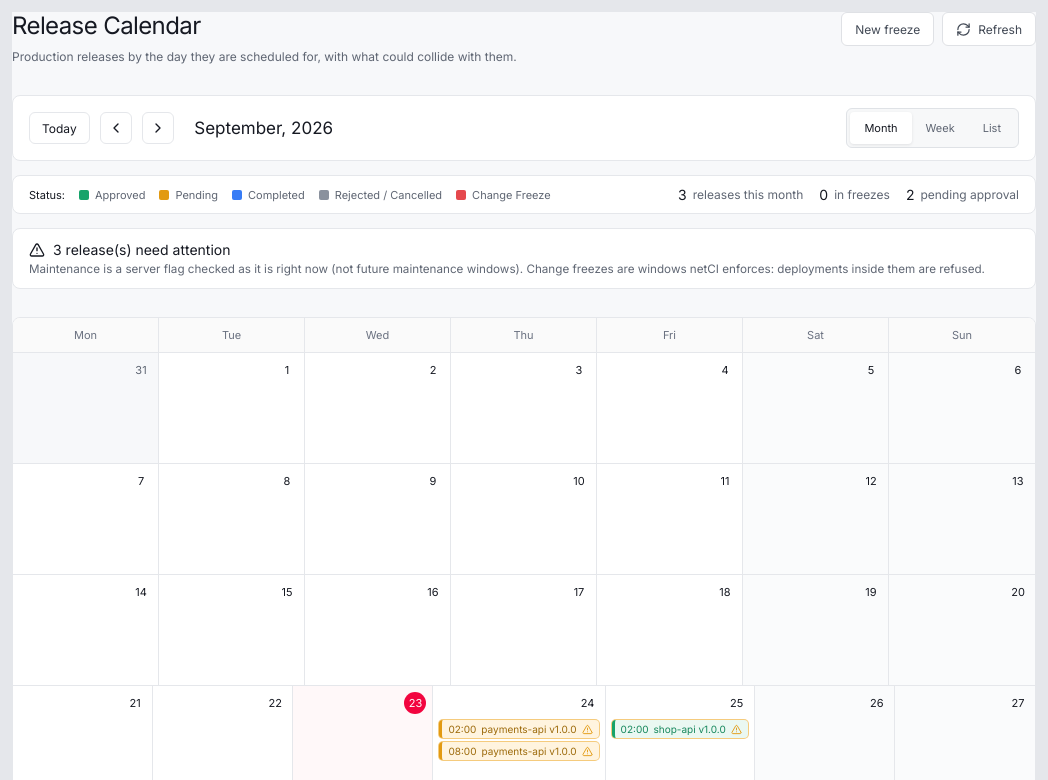
Test: ReleaseCalendarPage › next and prev month buttons change the title and reset with Today
expect the element with test id "calendar-summary" is shown: met, box [12,228,1036,289]
expect the text "September, 2026" is shown: met, box [184,118,344,138]
Click the button named "Next month": click(158, 128) [142,112,174,144]
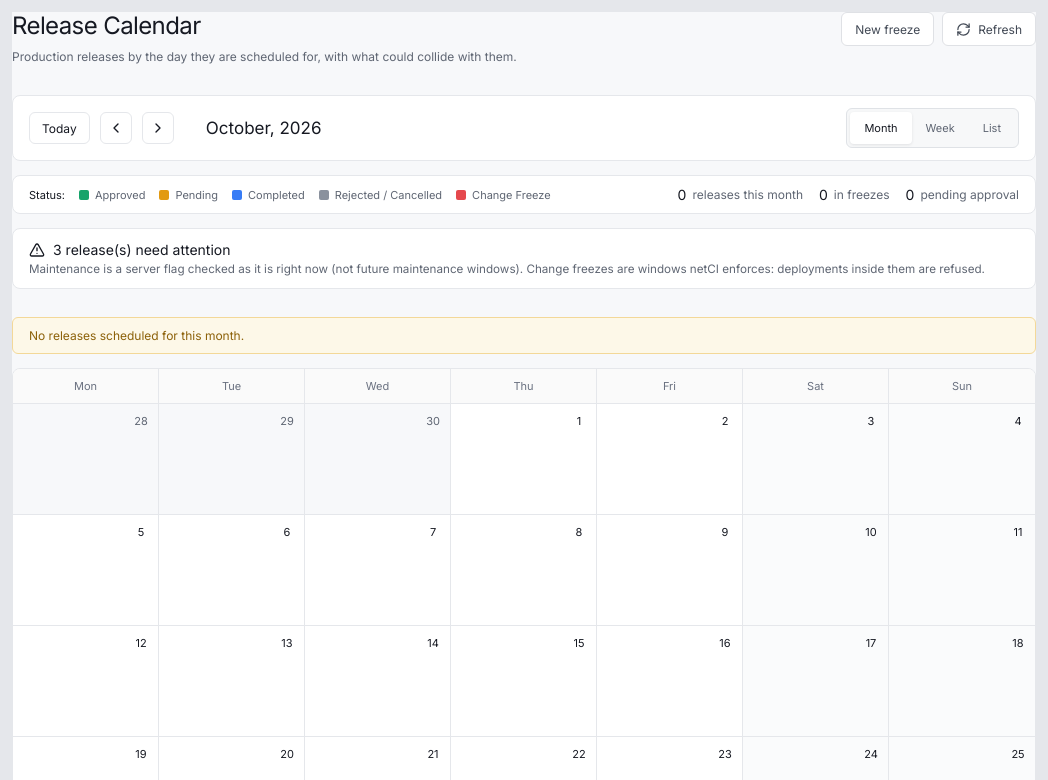
expect the text "October, 2026" is shown: met, box [206,118,321,138]
Click the button named "Previous month": click(116, 128) [100,112,132,144]
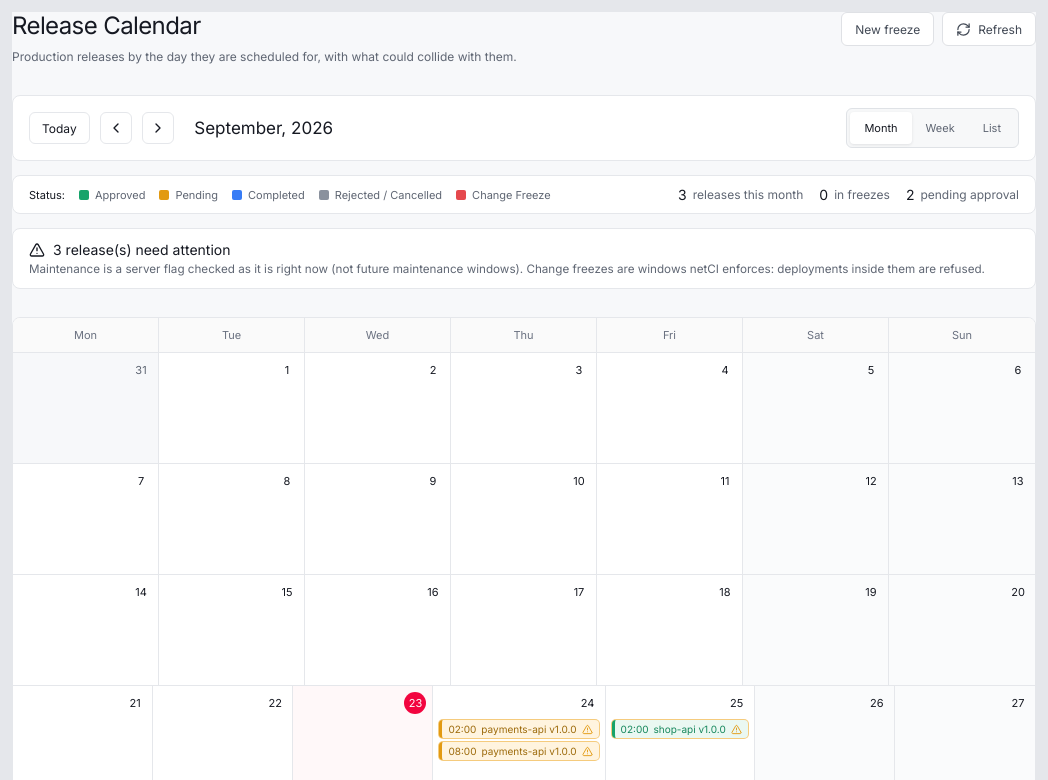
expect the text "September, 2026" is shown: met, box [184,118,344,138]
Click the button named "Previous month": click(116, 128) [100,112,132,144]
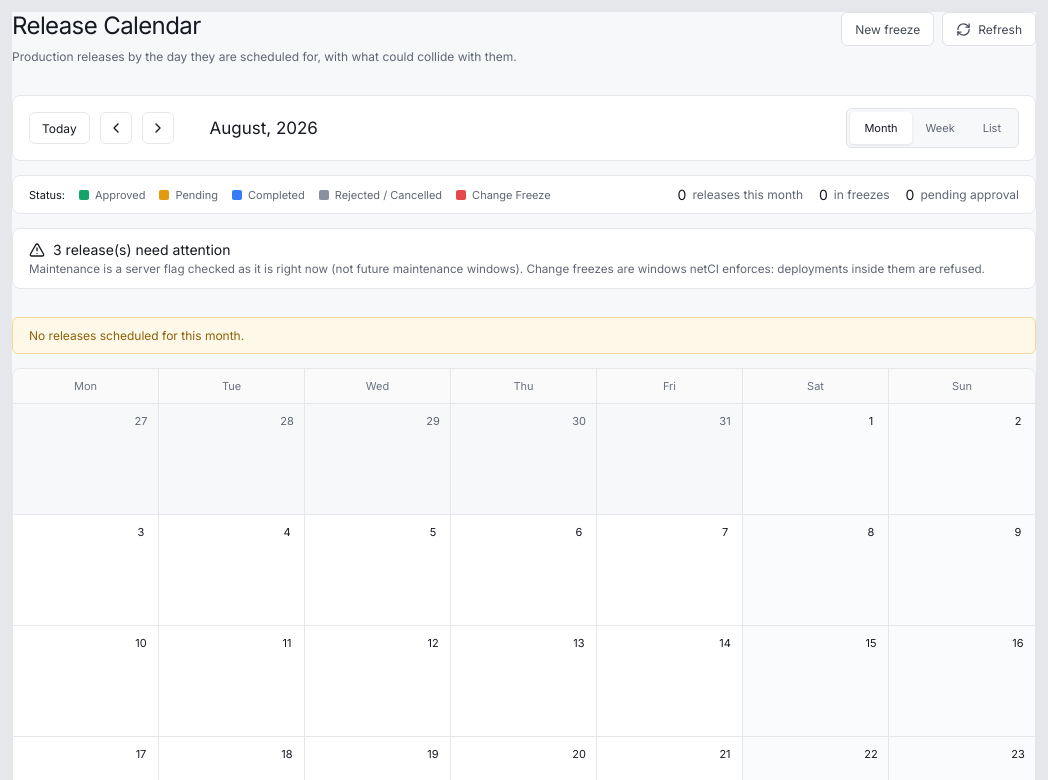
expect the text "August, 2026" is shown: met, box [209,118,318,138]
Click the button "Today": click(59, 128) [29,112,90,144]
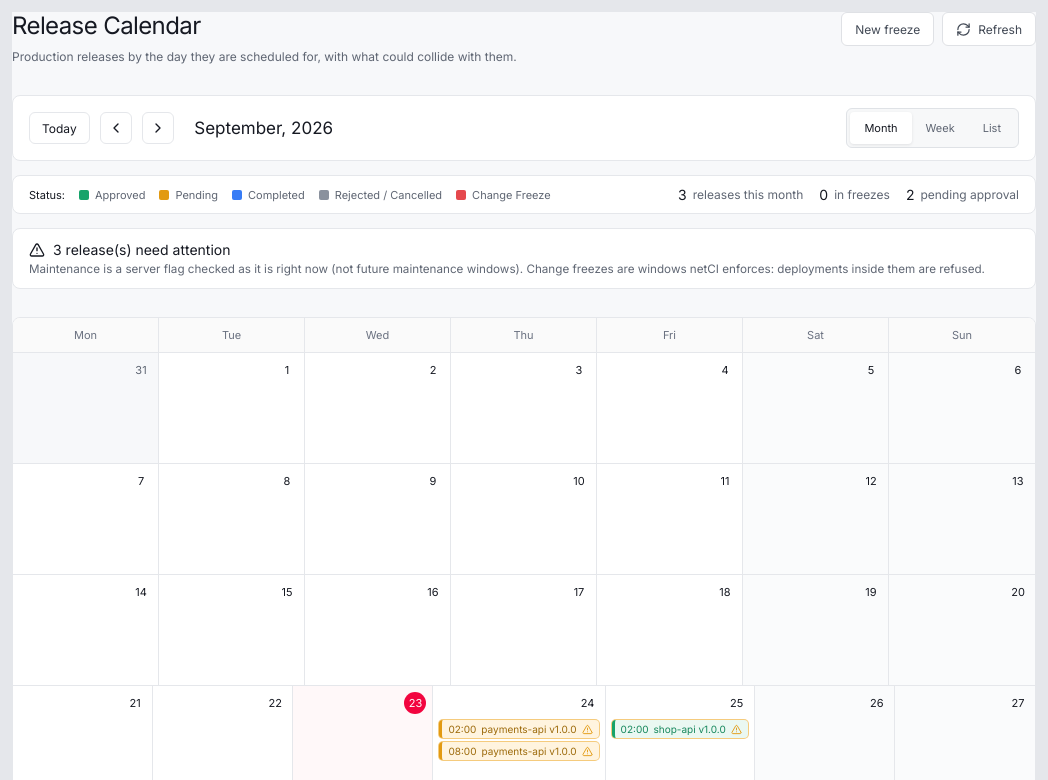
expect the text "September, 2026" is shown: met, box [184,118,344,138]
